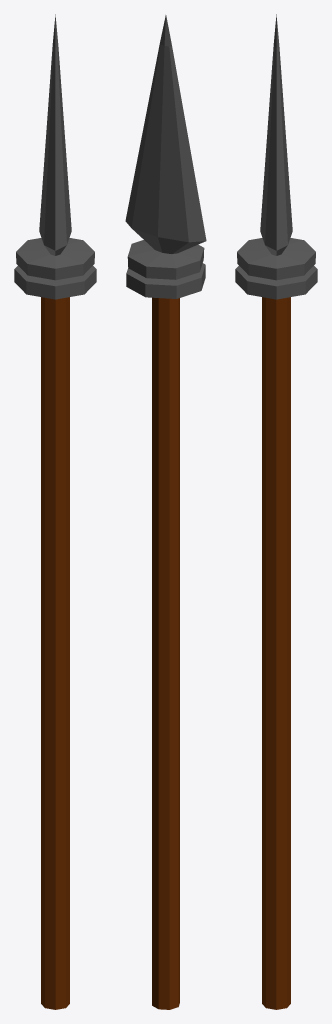
The model's file is Spear.fbx.
The picture shows the model from 3 angles, left to right: view 1: azimuth 90°, elevation 25°; view 2: azimuth 150°, elevation 25°; view 3: azimuth 270°, elevation 25°; orthographic projection.
Visible parts, largest first — view 1: Lanza; view 2: Lanza; view 3: Lanza.
Part boxes in pixels (x1=…): Lanza: x1=14, y1=14, x2=96, y2=1009; Lanza: x1=125, y1=15, x2=206, y2=1009; Lanza: x1=235, y1=14, x2=317, y2=1009.
Bounding box in the file's own units: 56.45 × 658 × 49.44.
